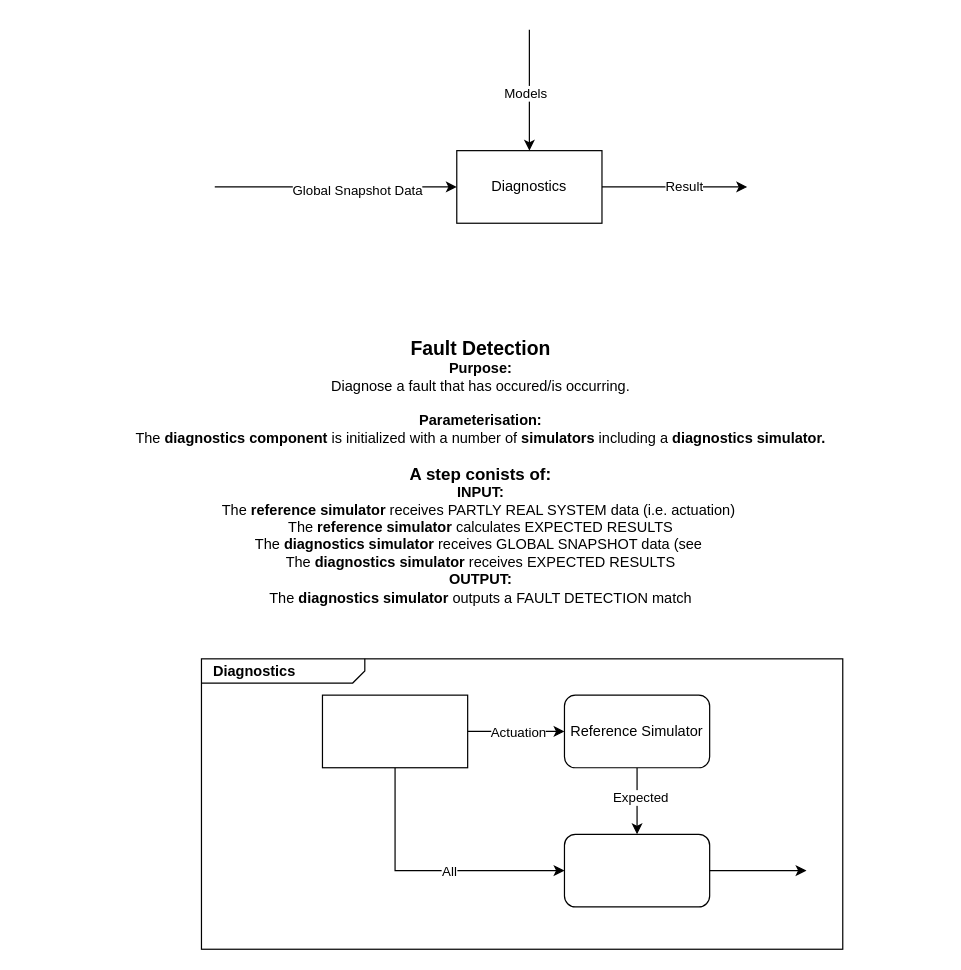
Some shapes in this 961 by 970 pixel diagram are drawn without their labels. Each missing label, with the centre of its shape:
"Diagnostics Simulator" belongs at (636,870).
"Global Snapshot Data Provider" belongs at (394,731).
